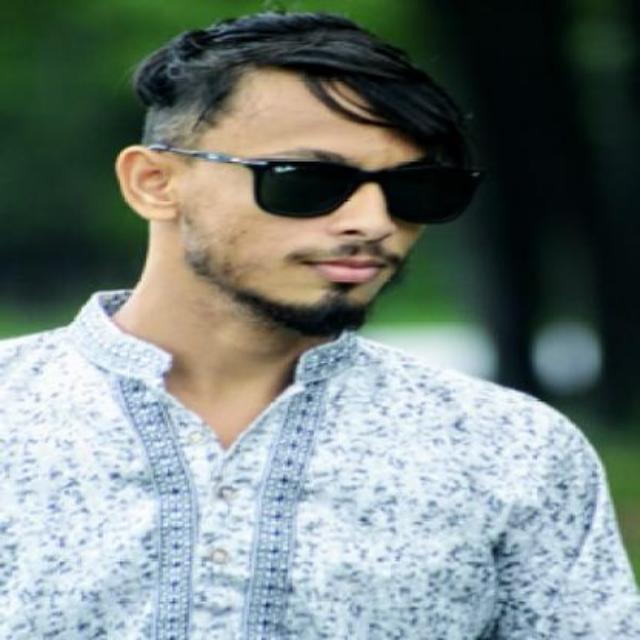glasses: (146, 140, 484, 224)
